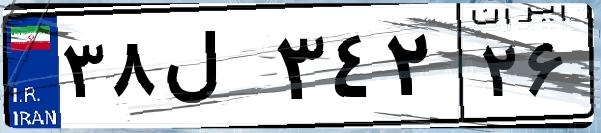2: (385, 28, 445, 110), (475, 38, 525, 113)
3: (270, 28, 330, 110), (57, 26, 110, 100)
4: (330, 28, 385, 110)
6: (525, 38, 570, 115)
8: (110, 28, 158, 98)
ل: (158, 20, 270, 120)
